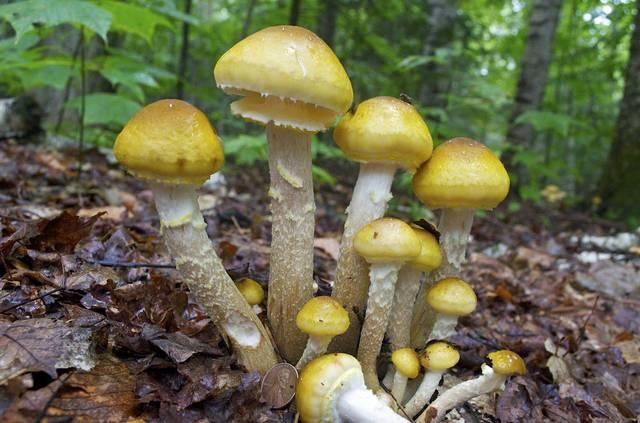Edible Mushroom: (212, 23, 354, 364), (111, 97, 281, 378), (329, 94, 433, 356), (351, 216, 421, 394)
